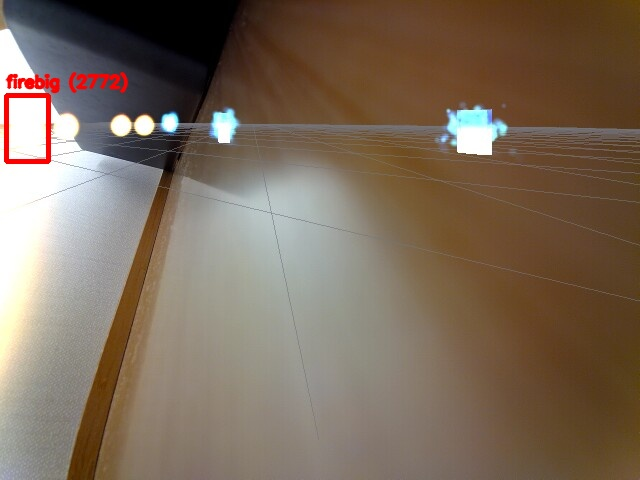firebig: (6, 95, 48, 161)
